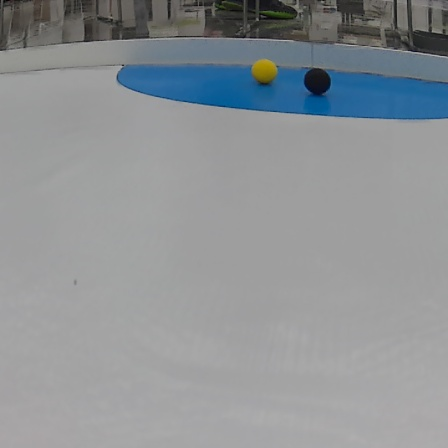black: (306, 70, 330, 94)
blue_base: (111, 59, 445, 121)
yellow: (249, 57, 278, 83)
